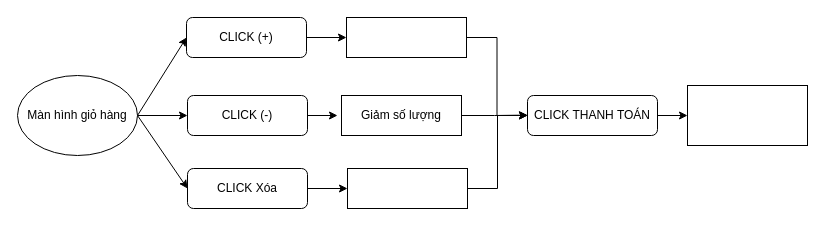
This 825x226 diagram has some shape labels left out. Here are the shapes that lost their labels. From the top down, the centre of each, then its label:
At (406,37): "Tăng số lượng".
At (747,115): "Chuyển đến màn hình thanh toán".
At (407,188): "Xóa sản phẩm".
